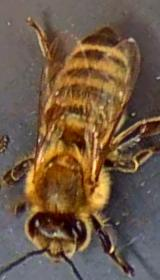varroa_mite: (38, 99, 66, 128)
